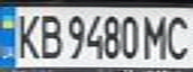0: (121, 11, 142, 61)
4: (84, 11, 106, 61)
8: (103, 11, 124, 61)
9: (63, 11, 84, 61)
B: (36, 10, 63, 61)
C: (163, 10, 193, 61)
K: (9, 10, 42, 61)
M: (139, 11, 172, 61)
